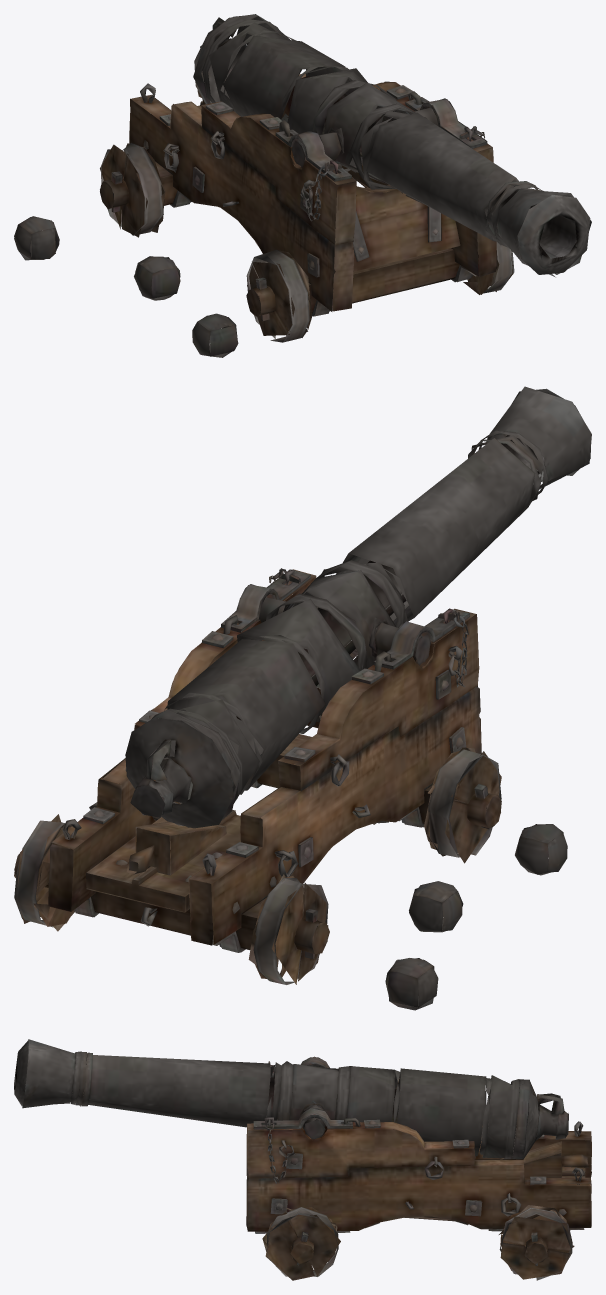
The model's file is cannon_01.glb.
The picture shows the model from 3 angles, top to bottom: view 1: azimuth 30°, elevation 25°; view 2: azimuth 150°, elevation 25°; view 3: azimuth 270°, elevation 25°; orthographic projection. The views are drawn at different scales.
Parts seen in each view (by area): view 1: cannon_01_frame; view 2: cannon_01_frame; view 3: cannon_01_frame.
Part boxes in pixels (left/top/right/bottom): cannon_01_frame: left=14, top=14, right=591, bottom=357; cannon_01_frame: left=14, top=386, right=591, bottom=1010; cannon_01_frame: left=14, top=1039, right=591, bottom=1280.
Bounding box in the file's own units: 1.27 × 0.8636 × 2.3.
1 material, 1 textured.
